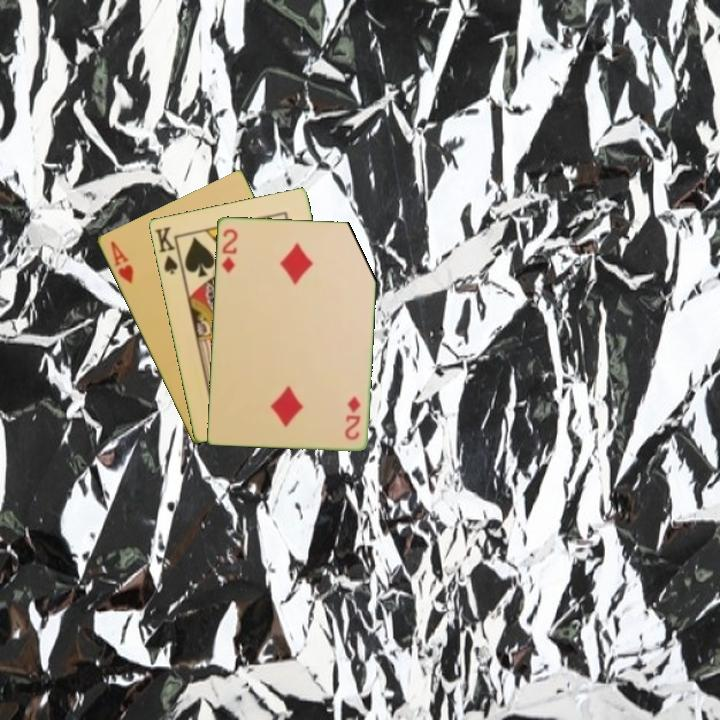2d: (218, 225, 240, 275), (342, 392, 363, 443)
Ah: (106, 237, 136, 286)
Ks: (151, 223, 185, 277)
